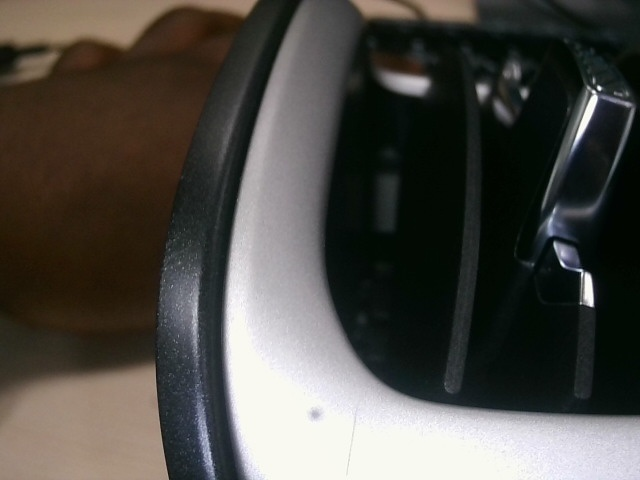NG: (339, 402, 379, 480), (161, 233, 197, 301)
